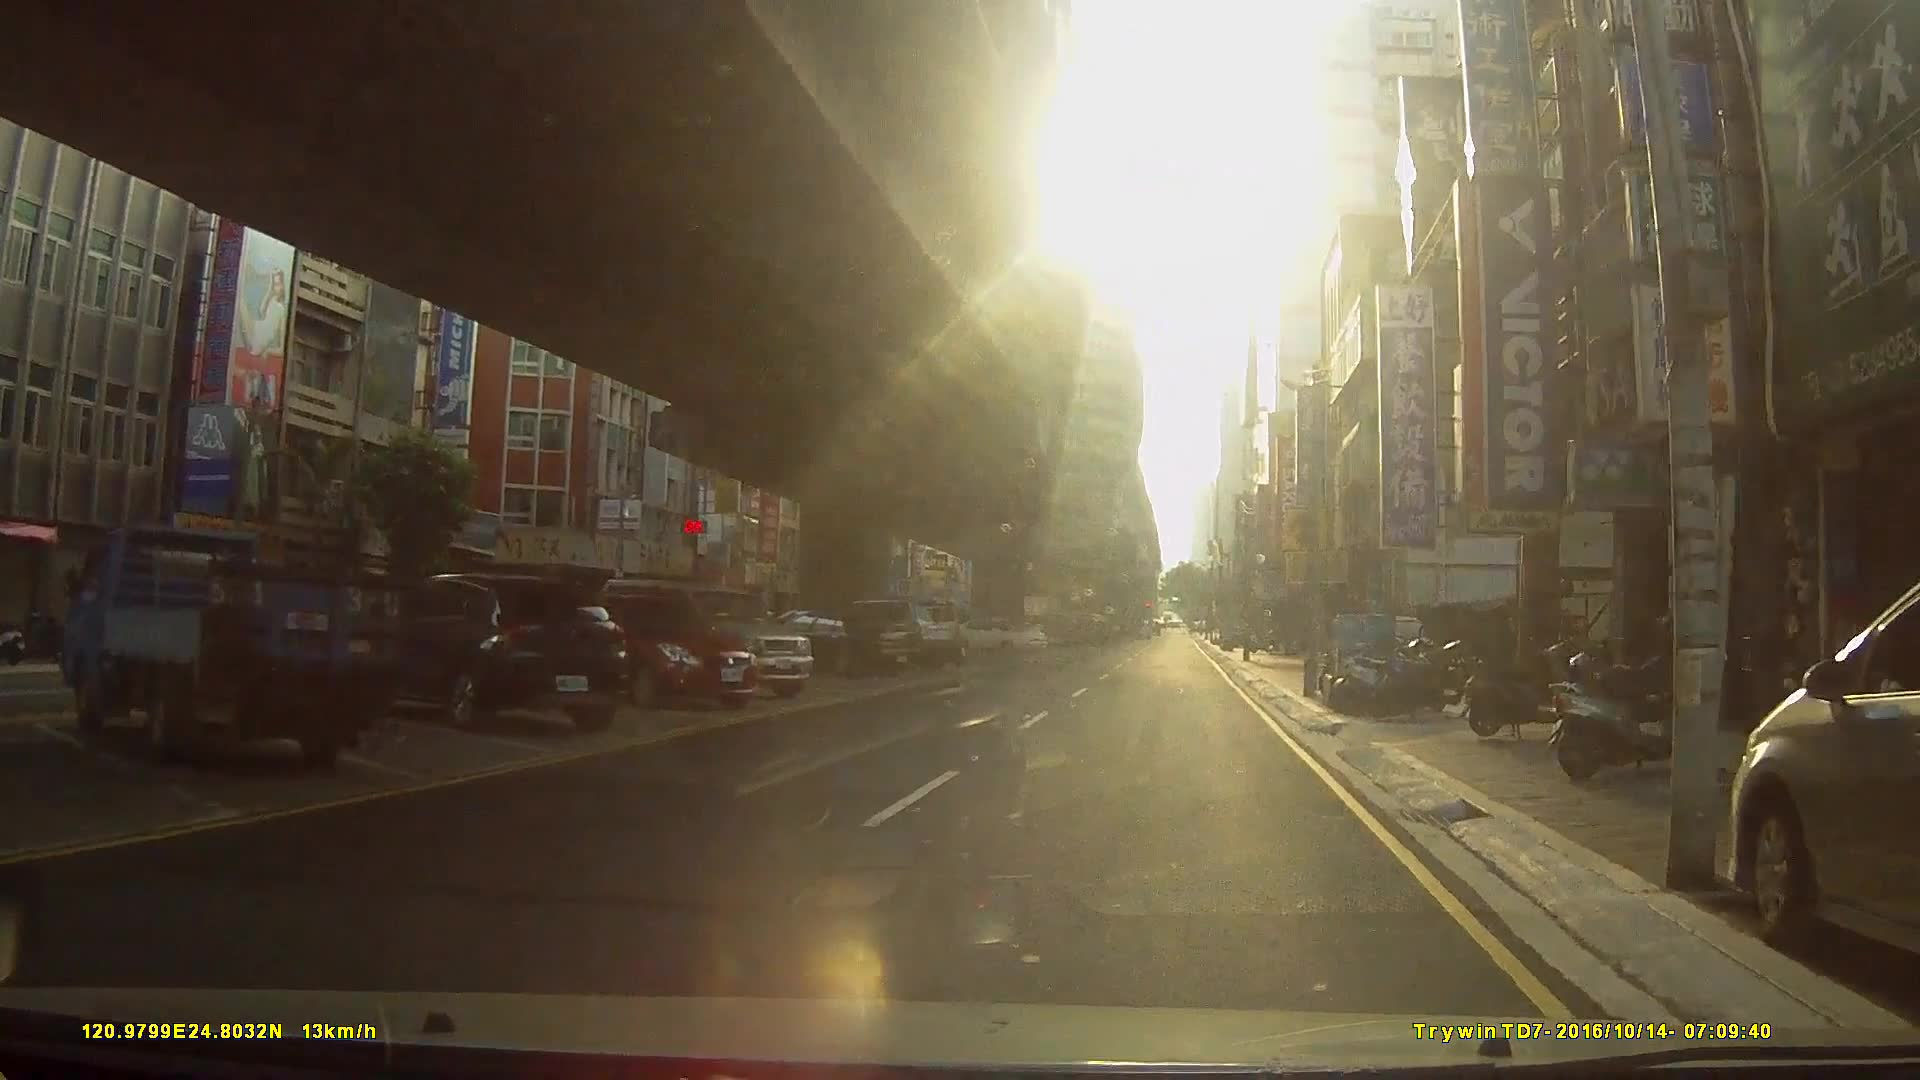vehicle: (54, 524, 411, 770), (1727, 579, 1920, 973), (365, 570, 626, 731), (596, 576, 812, 699), (560, 589, 761, 712), (744, 607, 913, 675), (824, 596, 964, 666), (956, 615, 1048, 654)
